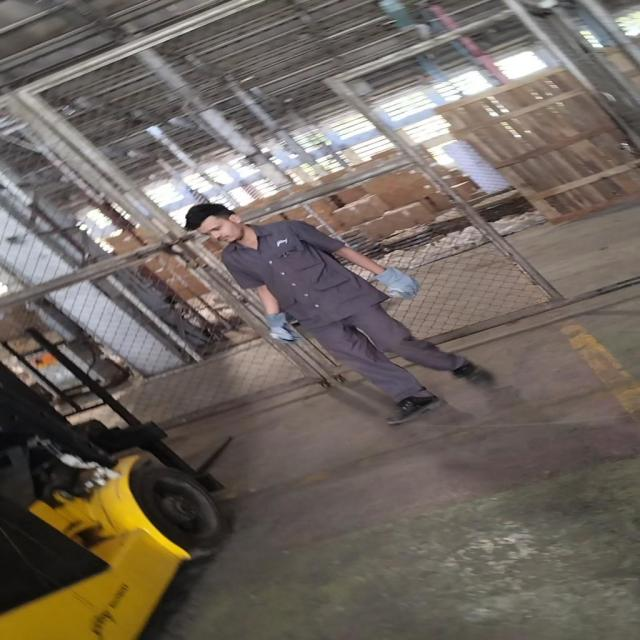Gloves-Detection: (369, 266, 418, 302), (262, 309, 298, 349)
